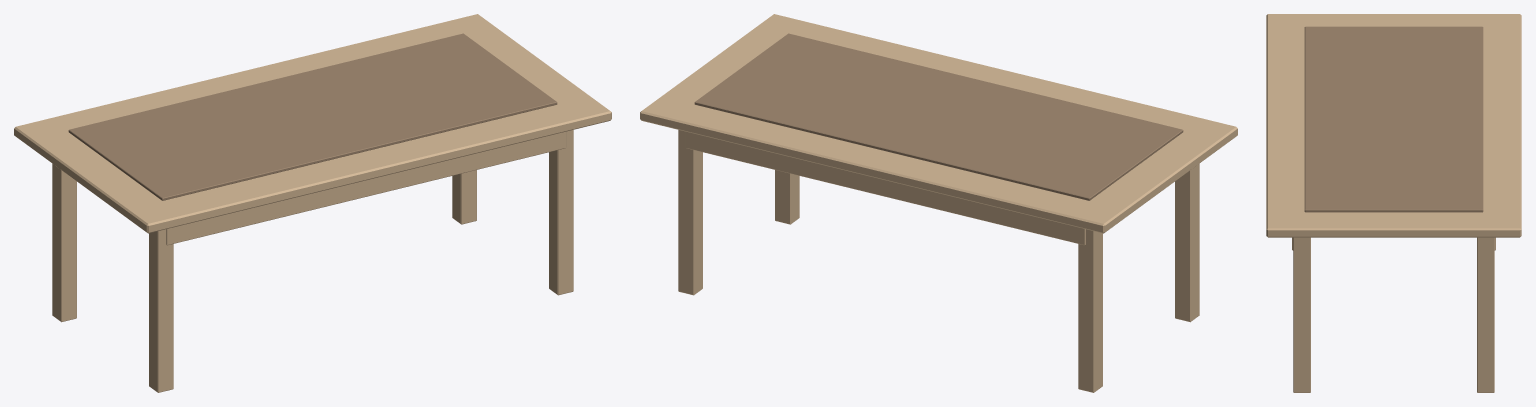
Rendered from dining-table-6seat-02f48ab1.glb.
3 views of the same model, side by side, from view 1: azimuth 30°, elevation 25°; view 2: azimuth 150°, elevation 25°; view 3: azimuth 270°, elevation 25° (orthographic). The views are drawn at different scales.
Parts seen in each view (by area): view 1: dining-table-6seat; view 2: dining-table-6seat; view 3: dining-table-6seat.
Boxes of the visible parts, left/top/right/bottom form: dining-table-6seat: left=14, top=14, right=611, bottom=392; dining-table-6seat: left=640, top=14, right=1237, bottom=392; dining-table-6seat: left=1266, top=14, right=1521, bottom=392.
Bounding box in the file's own units: 2 × 0.7731 × 1.
